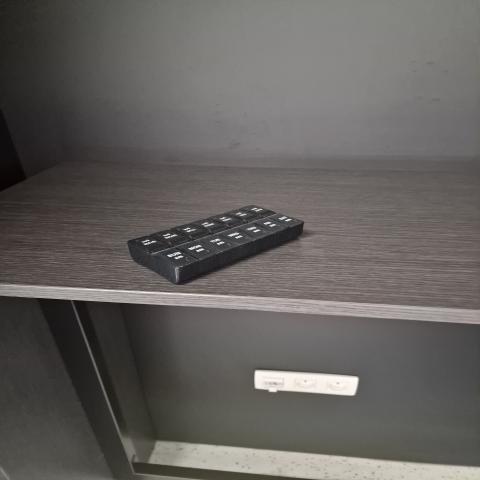PillBox: (109, 198, 318, 292)
